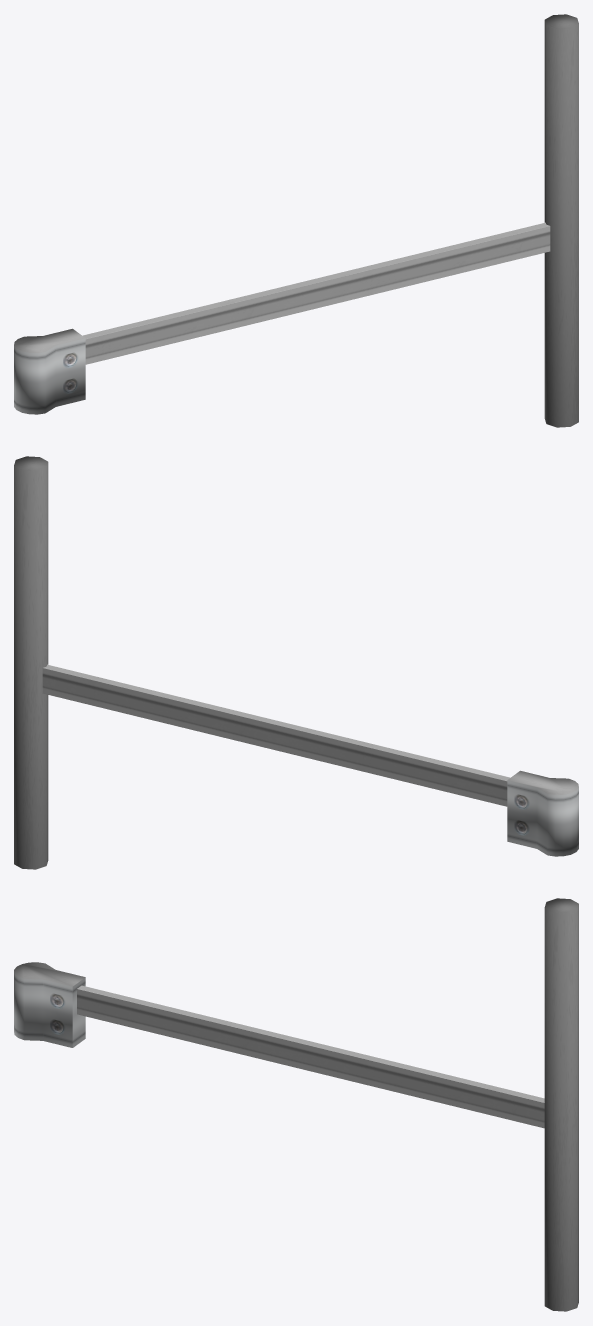
The model's file is Parts_Bar+Sub.fbx.
3 renders of one model, top to bottom at view 1: azimuth 30°, elevation 25°; view 2: azimuth 150°, elevation 25°; view 3: azimuth 330°, elevation 25°, orthographic.
Visible parts, largest first — view 1: 911_bar+sub; view 2: 911_bar+sub; view 3: 911_bar+sub.
Part boxes in pixels (bbox=[...]): 911_bar+sub: bbox=[14, 14, 578, 427]; 911_bar+sub: bbox=[14, 456, 578, 869]; 911_bar+sub: bbox=[14, 898, 578, 1311].
Size of the model in its own units: 0.6915 by 0.47 by 0.045.
